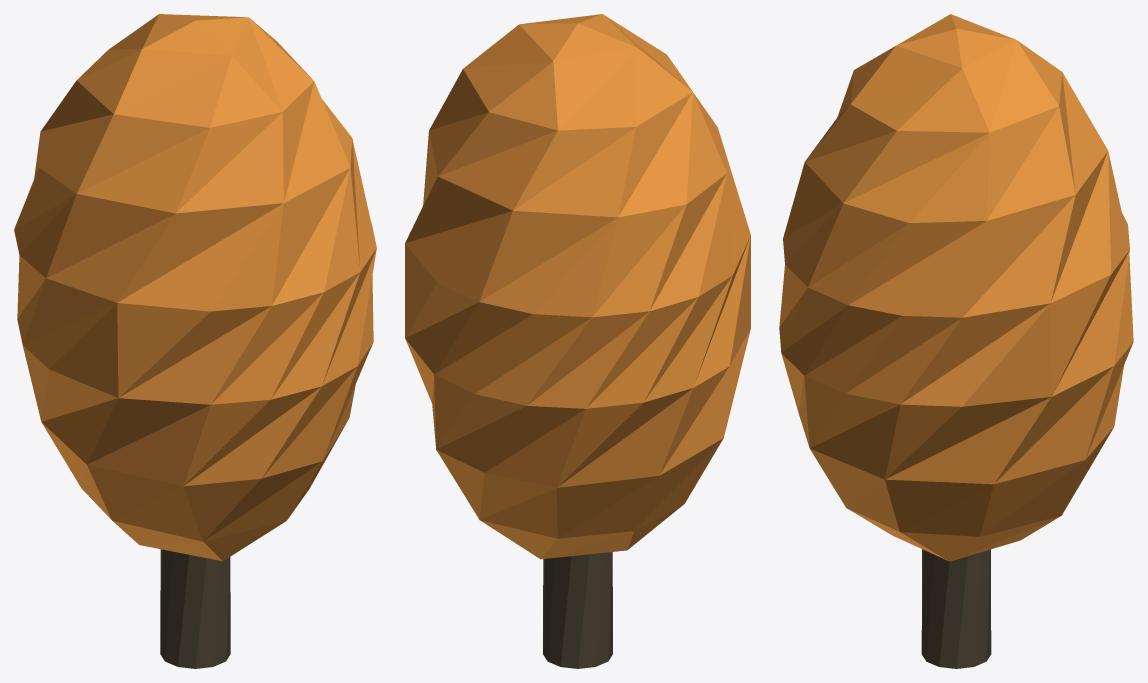
The model's file is twisted_gold.dae.
3 renders of one model, left to right at view 1: azimuth 30°, elevation 25°; view 2: azimuth 150°, elevation 25°; view 3: azimuth 270°, elevation 25°, orthographic.
Visible parts, largest first — view 1: Kugel, Zylinder; view 2: Kugel, Zylinder; view 3: Kugel, Zylinder.
Part boxes in pixels (<box>): Kugel: <box>14,14,376,561</box>; Zylinder: <box>160,549,230,668</box>; Kugel: <box>405,14,750,559</box>; Zylinder: <box>543,552,612,668</box>; Kugel: <box>779,14,1133,561</box>; Zylinder: <box>921,549,991,668</box>.
Bounding box in the file's own units: 52.12 × 103 × 53.09.
